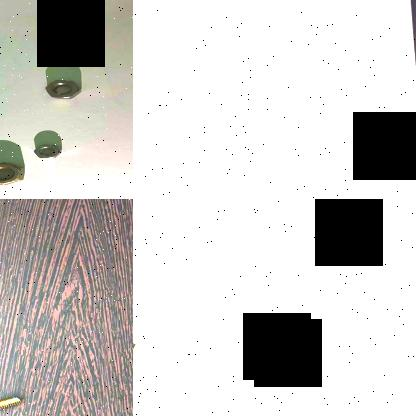Bolts: (0, 395, 30, 416), (133, 339, 143, 371)
NUTS: (44, 76, 86, 100), (0, 160, 27, 186), (32, 140, 62, 160)
